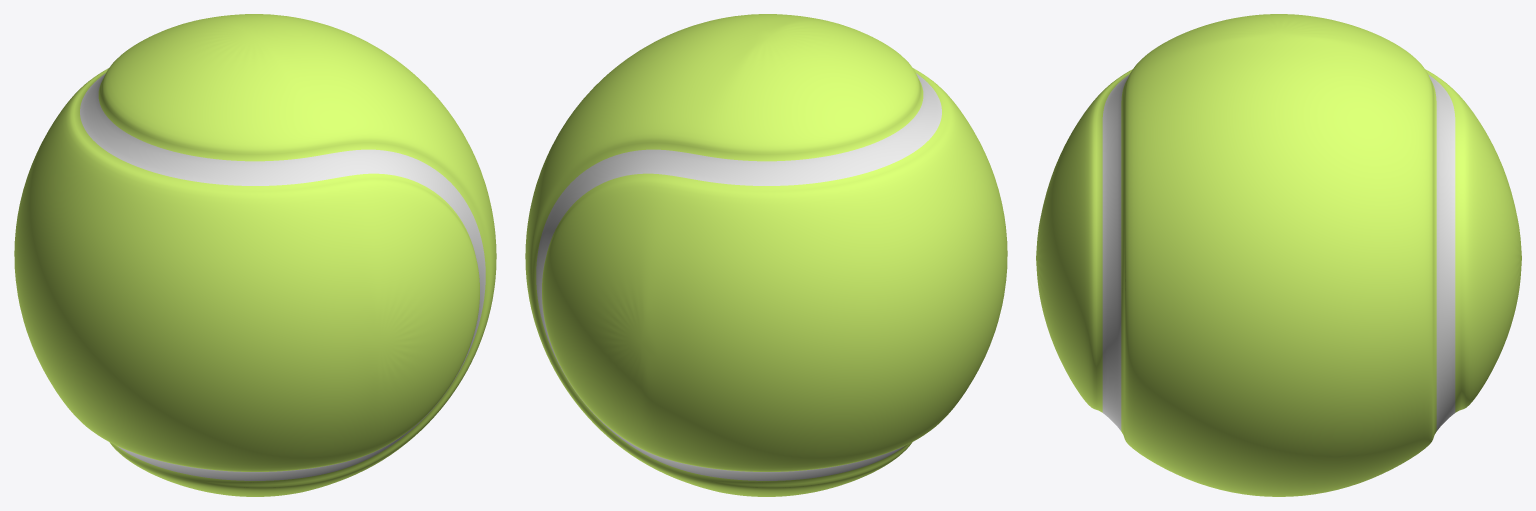
Rendered from Tennis Ball.fbx.
3 renders of one model, left to right at view 1: azimuth 30°, elevation 25°; view 2: azimuth 150°, elevation 25°; view 3: azimuth 270°, elevation 25°, orthographic.
Visible parts, largest first — view 1: Esfera UV; view 2: Esfera UV; view 3: Esfera UV.
Boxes of the visible parts, box(x1,y1,x2,y2) form: Esfera UV: box(14, 14, 496, 496); Esfera UV: box(525, 14, 1007, 496); Esfera UV: box(1036, 14, 1521, 496).
Bounding box in the file's own units: 197 × 199 × 199.
